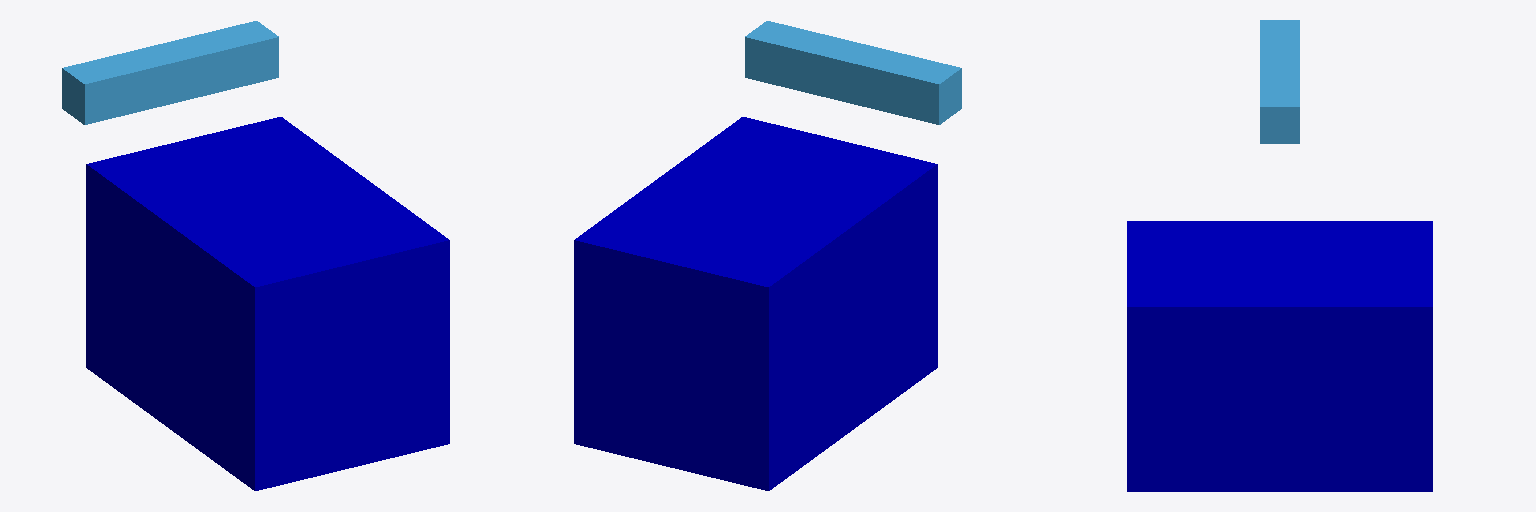
URDF robot description (flexible):
<?xml version="1.0"?>
<robot name="flexible">
  <link name="base_link">
    <visual>
      <geometry>
       <box size=".4 .6 .4"/>
      </geometry>
      <material name="blue">
        <color rgba="0 0 .8 1"/>
      </material>
    </visual>
  </link>
  <joint name="joint_angle" type="continuous">
    <parent link="base_link"/>
    <child link="rear_link"/>
    <axis xyz="0 0 1"/>
    <origin xyz="0 0 0.3"/>
  </joint>

  
  <link name="rear_link">
    <visual>
      <geometry>
        <box size=".4 .08 .08"/>
      </geometry>
      <origin rpy="0 0 0" xyz="-.2 0 .2"/>
      <material name="white"/>
    </visual>
  </link>

</robot>

--- Render facts (derived) ---
3 views of the same robot in one strip: view 1: azimuth 30°, elevation 25°; view 2: azimuth 150°, elevation 25°; view 3: azimuth 270°, elevation 25° (orthographic).
Robot: flexible — 2 links, 1 joints (1 continuous); root link base_link; default pose: all joints at 0.
Visible links, largest first — view 1: base_link, rear_link; view 2: base_link, rear_link; view 3: base_link, rear_link.
Boxes of the visible links, x1,y1,x2,y2 form: base_link: (86, 117, 449, 490); rear_link: (62, 21, 278, 124); base_link: (574, 117, 937, 490); rear_link: (745, 21, 961, 124); base_link: (1127, 221, 1432, 491); rear_link: (1260, 20, 1299, 143).
Bounding box of the posed robot: 0.6 × 0.6 × 0.74 m (x, y, z).
Geometry: primitives only (box / cylinder / sphere), no mesh files.